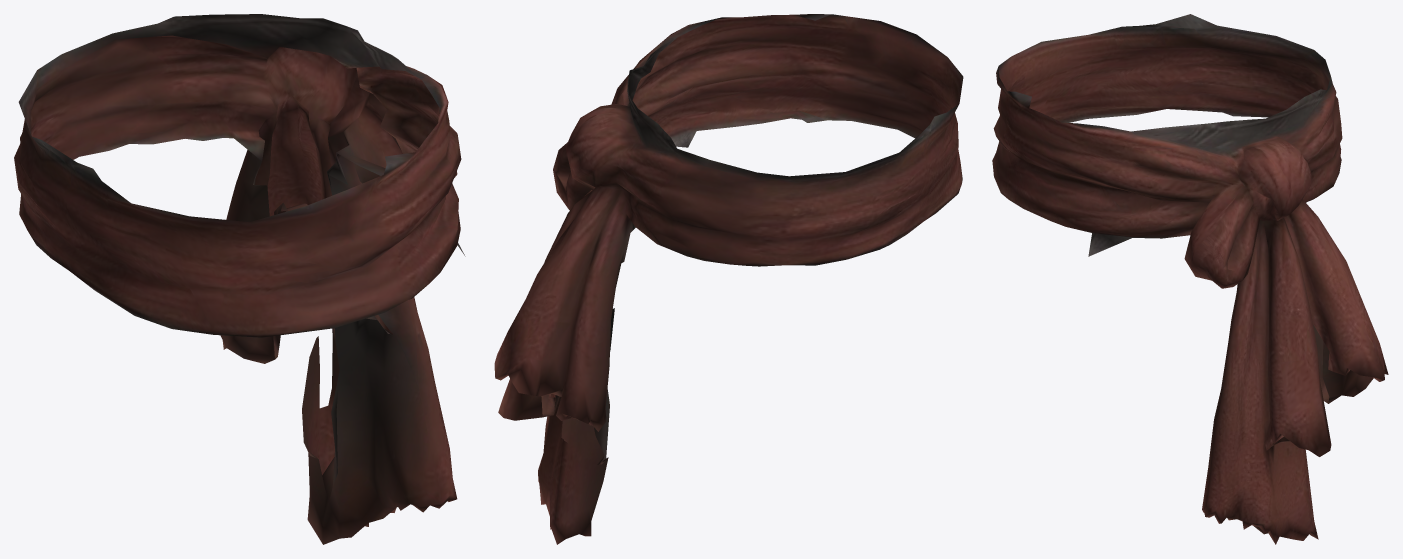
Rendered from belt.glb.
The picture shows the model from 3 angles, left to right: view 1: azimuth 30°, elevation 25°; view 2: azimuth 150°, elevation 25°; view 3: azimuth 270°, elevation 25°; orthographic projection. The views are drawn at different scales.
Visible parts, largest first — view 1: belt; view 2: belt; view 3: belt.
Part boxes in pixels (x1,y1,x2,y2): belt: (14,14,465,544); belt: (494,14,963,544); belt: (992,14,1388,544).
Bounding box in the file's own units: 0.241 × 0.2904 × 0.2554.
1 material, 1 textured.
